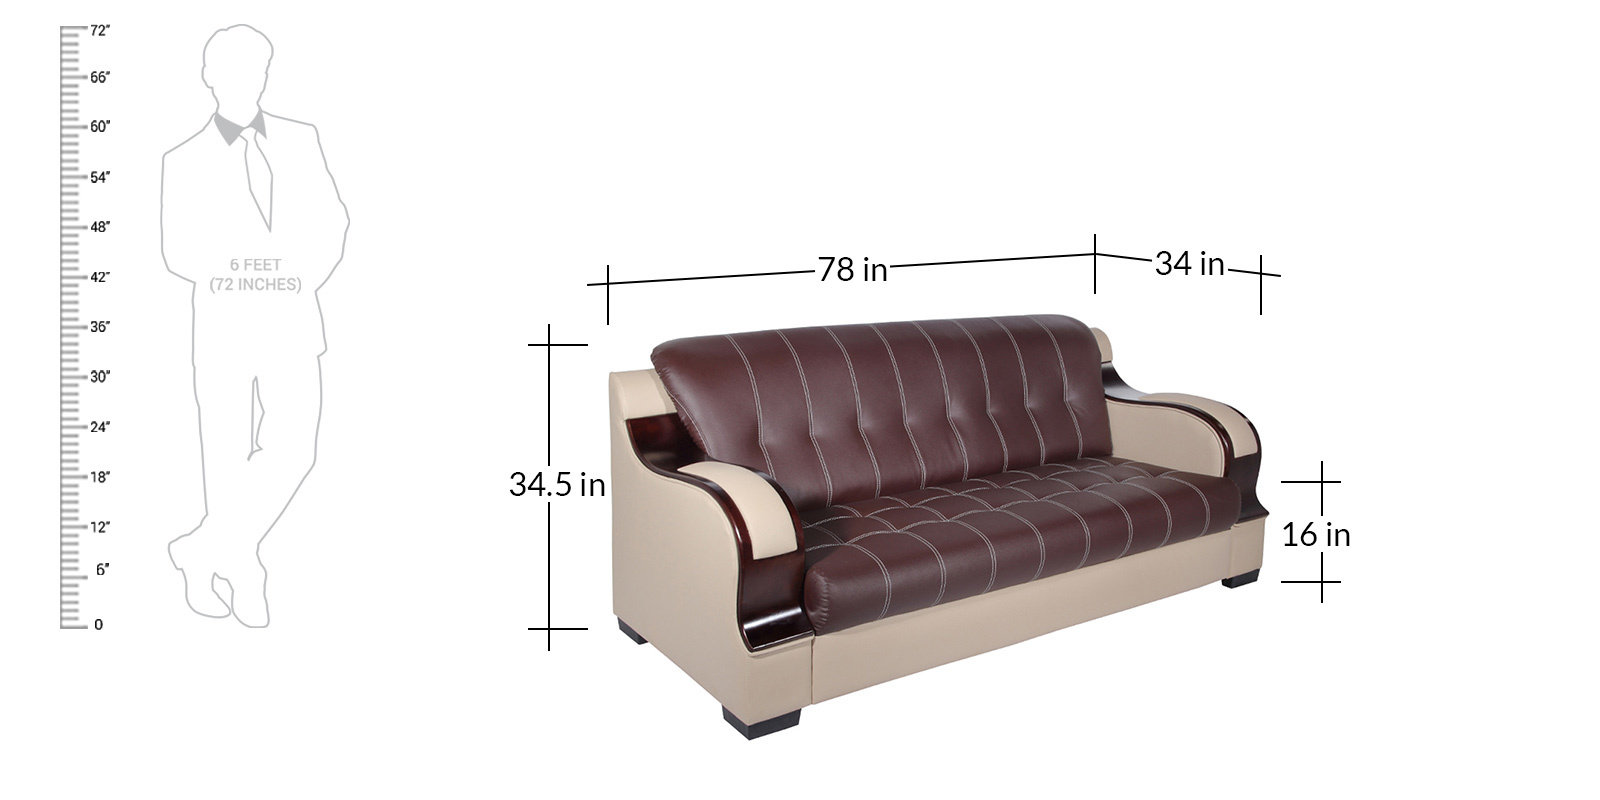Bella Three Seater Sofa in Brown Leatherette by Furniture Mind: (592, 312, 1283, 727)
